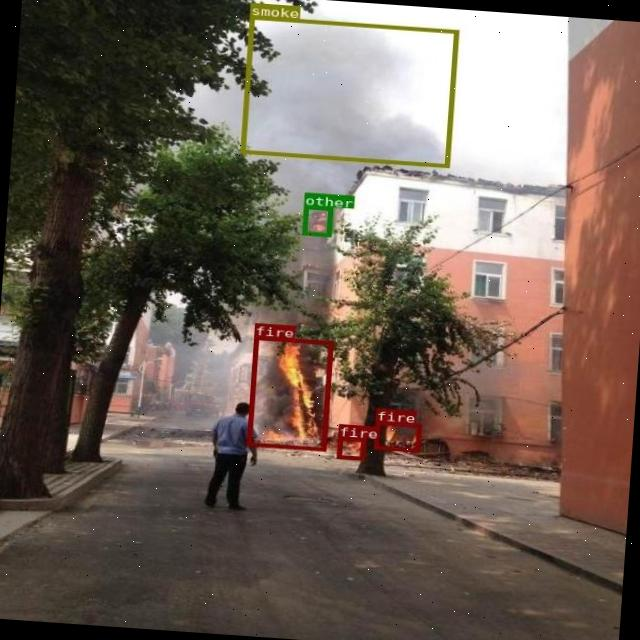fire: (246, 336, 332, 450), (373, 420, 420, 450), (336, 436, 364, 458)
smoke: (240, 15, 458, 166)
